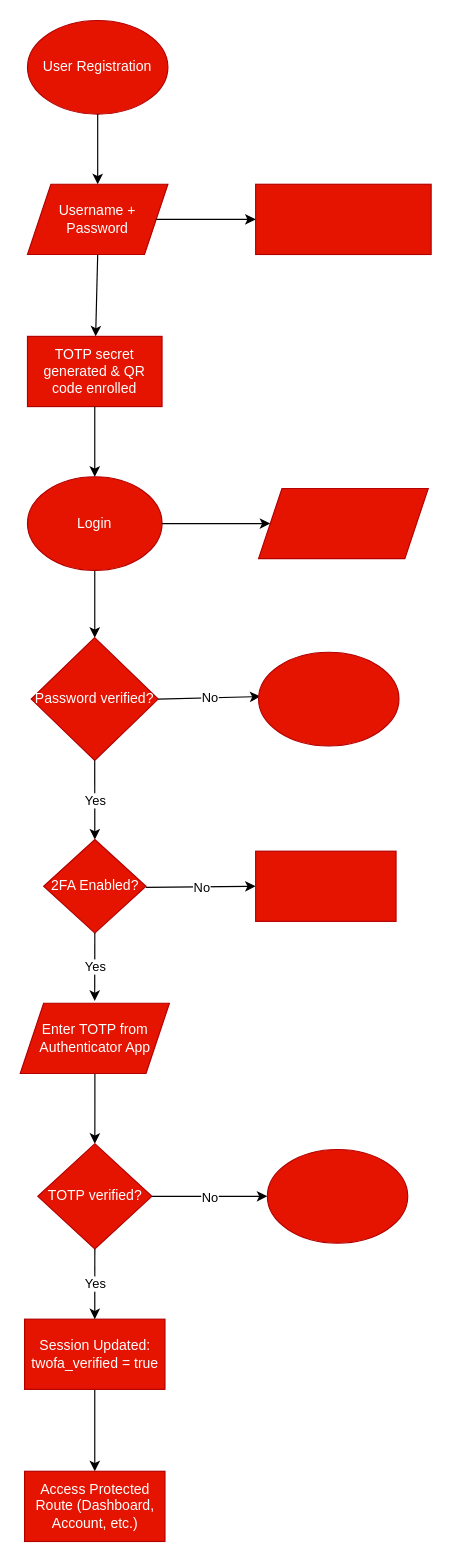
This 453x1562 diagram has some shape labels left out. The centre of each missing label's shape, as x and y in pixels:
Access Protected Route: the point at 325,885
Enter username + password: the point at 342,523
Login Failed: the point at 328,698
Password hashed with bcrypt: the point at 342,218
Verification Failed: the point at 337,1195
